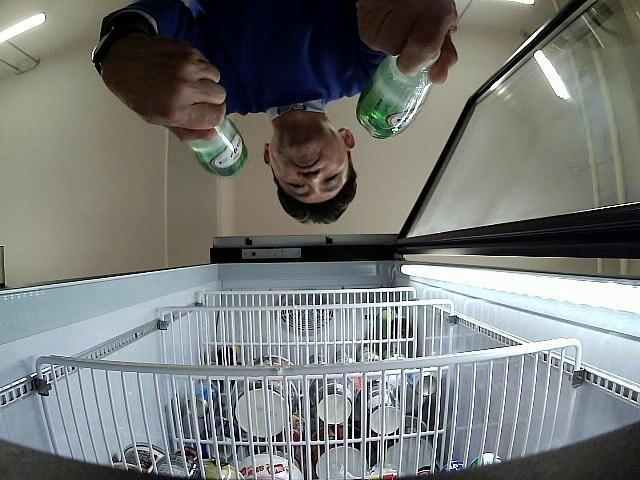18_trevi: (356, 50, 438, 140), (189, 120, 247, 176)
